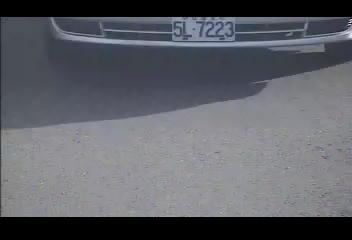plate: (171, 16, 237, 43)
